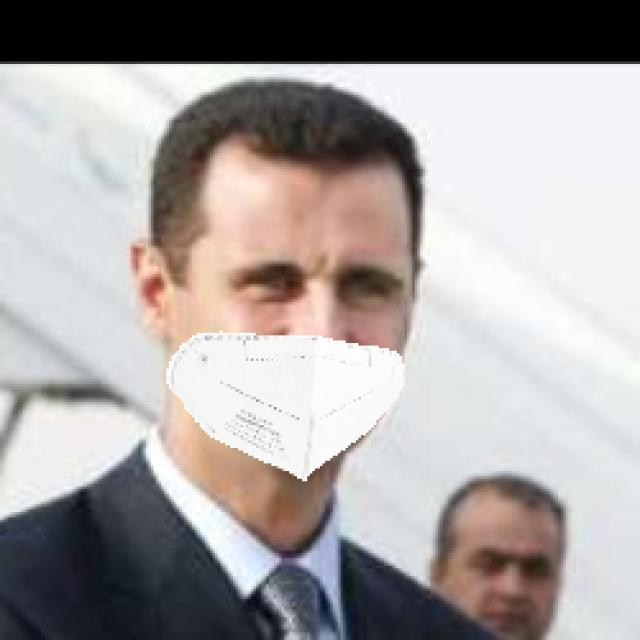mask: (154, 322, 403, 502)
